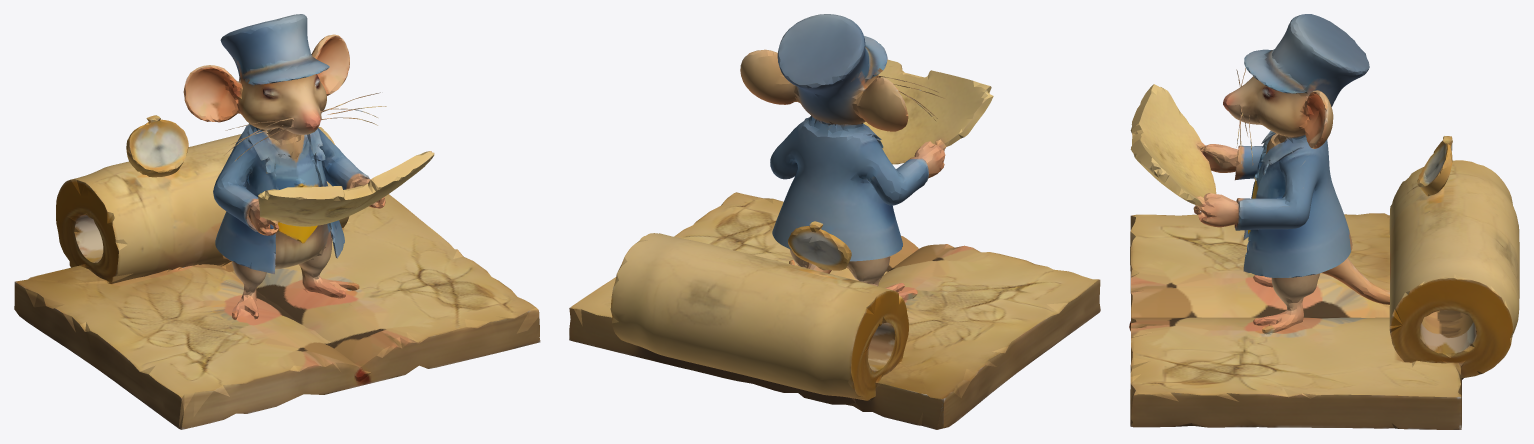
3 views of the same model, side by side, from view 1: azimuth 30°, elevation 25°; view 2: azimuth 150°, elevation 25°; view 3: azimuth 270°, elevation 25° (orthographic). The views are drawn at different scales.
Parts seen in each view (by area): view 1: 020; view 2: 020; view 3: 020.
Boxes of the visible parts, x1=… form: 020: x1=14, y1=14, x2=540, y2=429; 020: x1=569, y1=14, x2=1100, y2=429; 020: x1=1129, y1=14, x2=1519, y2=429.
Size of the model in its own units: 1.9 by 1.51 by 1.69.
1 material, 1 textured.
